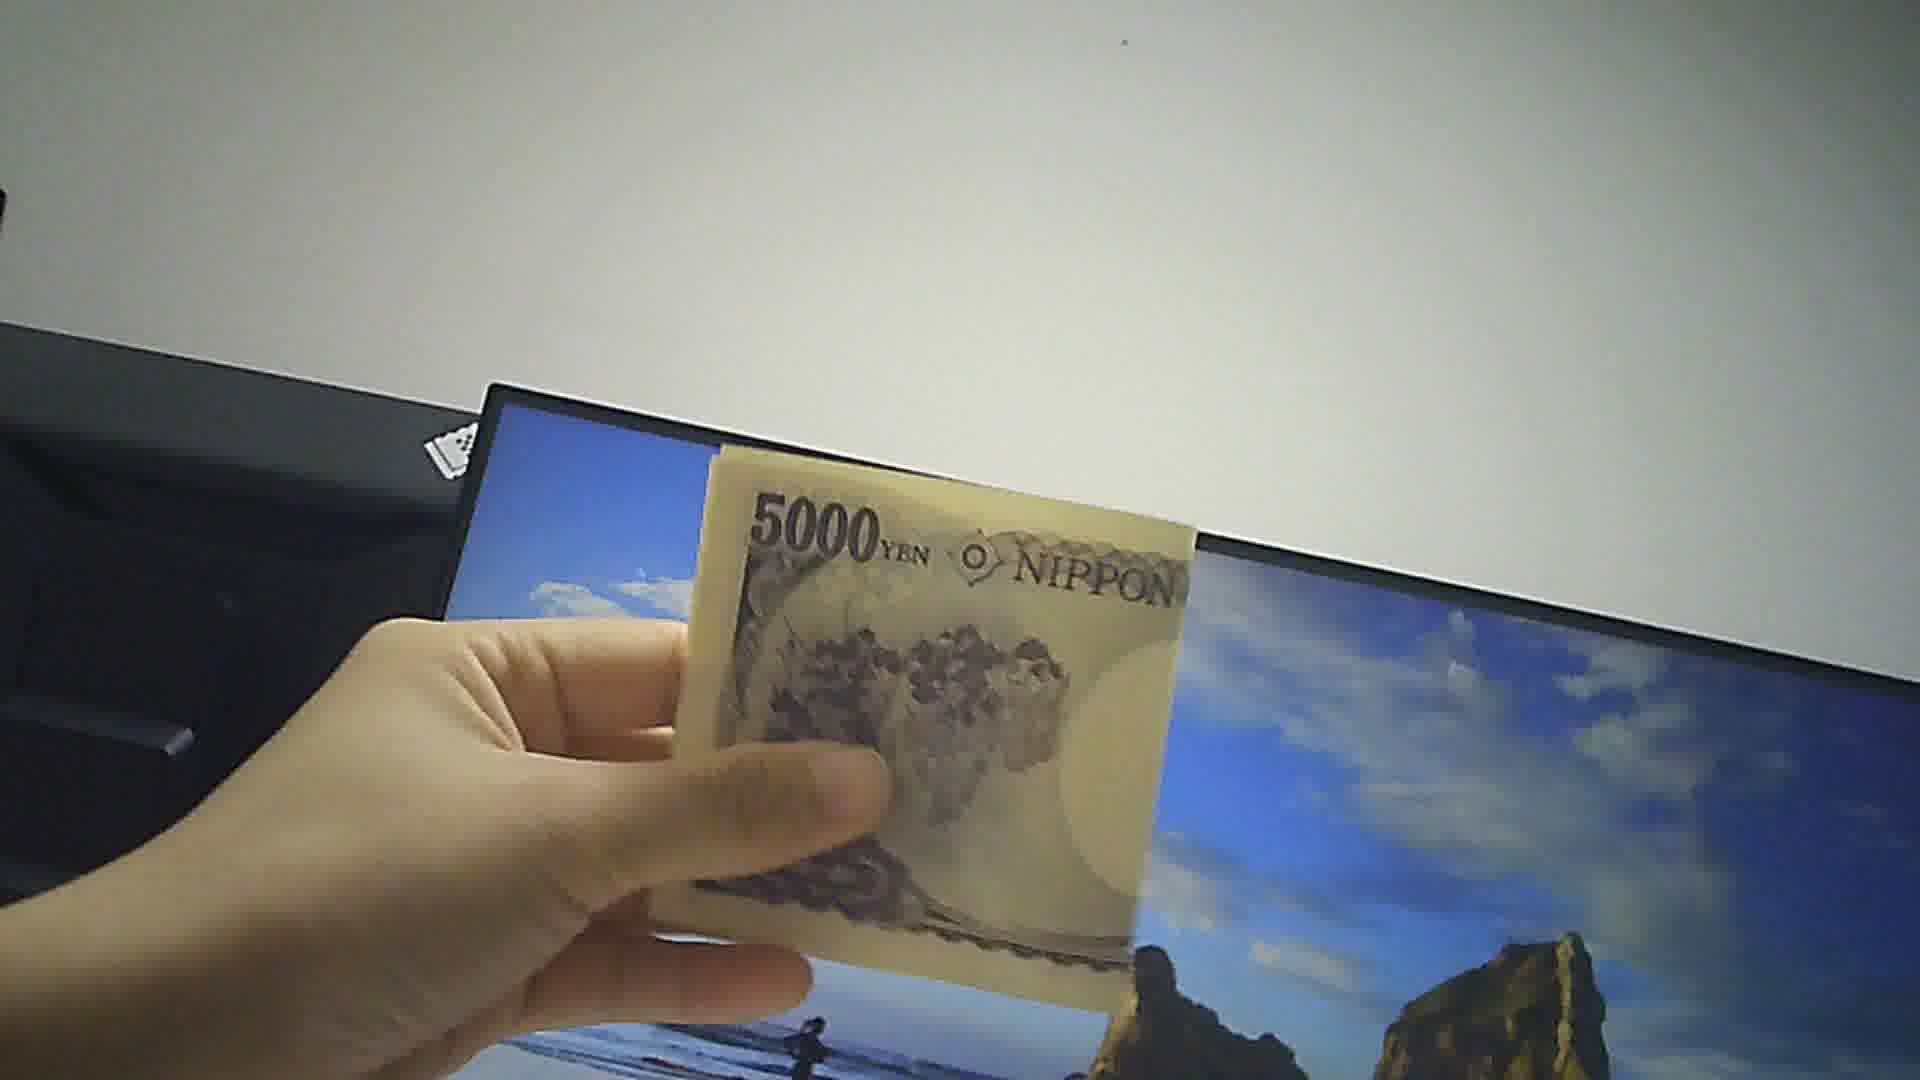5,000 Yen: (659, 436, 1222, 1007)
